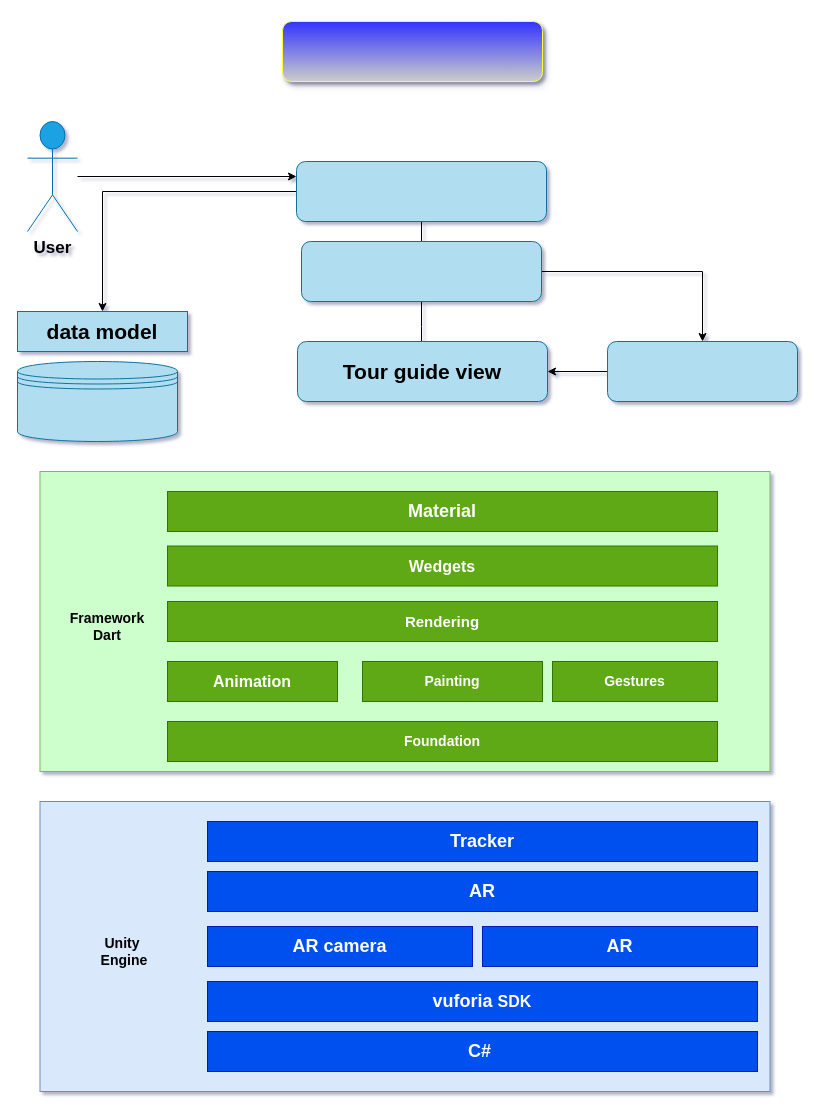
Some shapes in this 821 by 1115 pixel diagram are drawn without their labels. Here are the shapes that lost their labels. From the top down, the centre of each, then its label:
At (x=413, y=52): "System Architecture".
At (x=421, y=191): "app".
At (x=421, y=271): "Navigator stack".
At (x=702, y=371): "Login page".
At (x=97, y=401): "Firebase".
